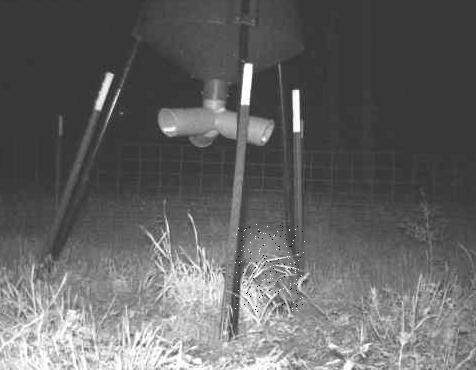Raccoon: (235, 224, 305, 312)
